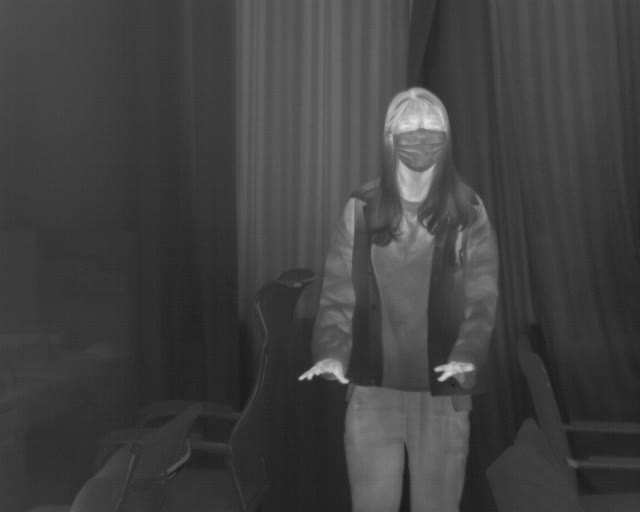face: (268, 150, 344, 258)
